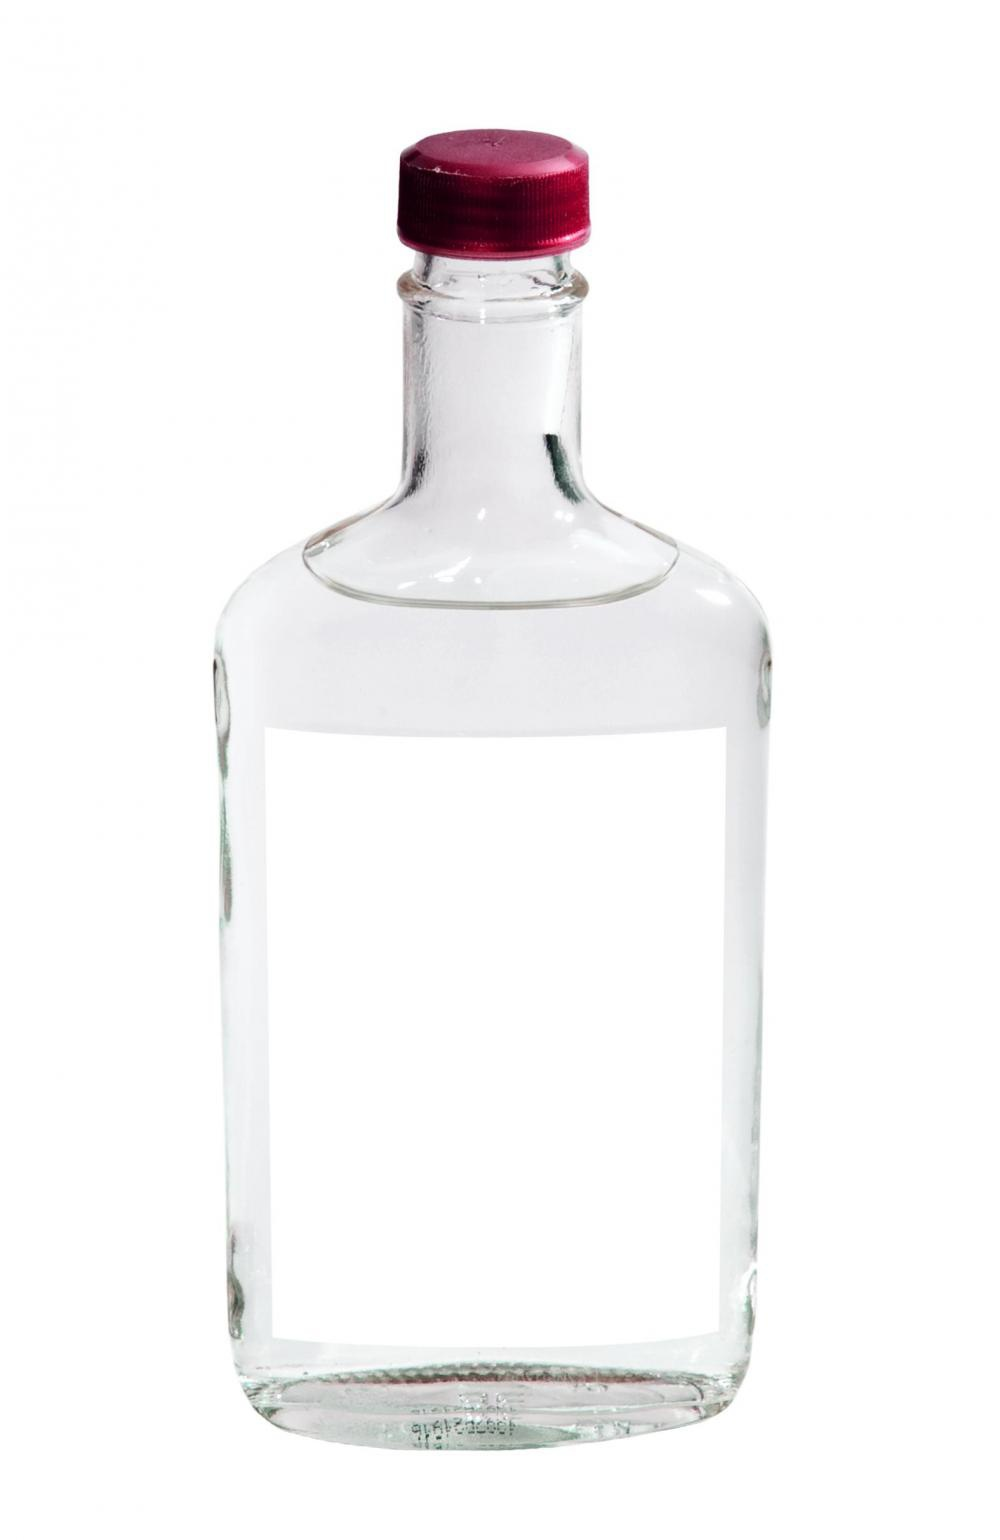emptybottle: (215, 132, 768, 1451)
